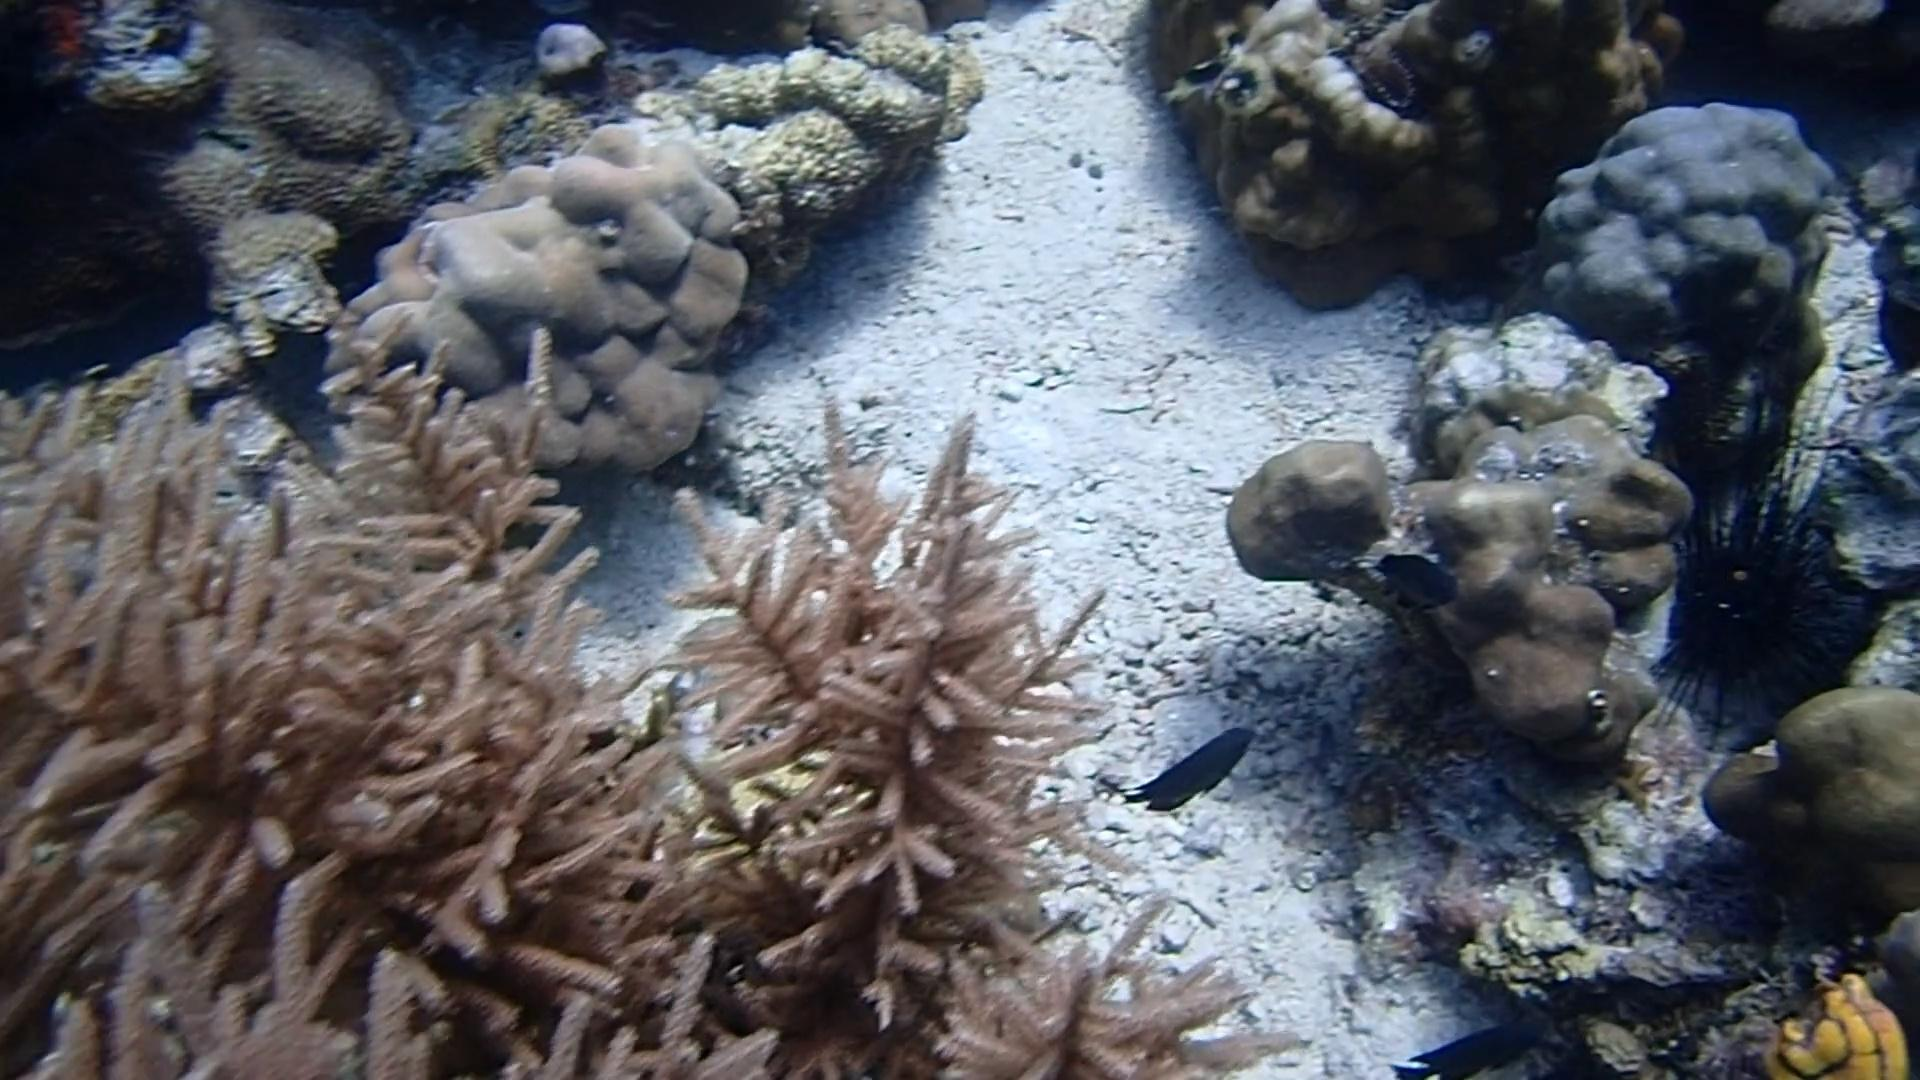Dark Fish: (1108, 719, 1258, 820), (1383, 1015, 1538, 1080), (1371, 550, 1460, 613)
Yellow Tail: (1155, 49, 1240, 105)
